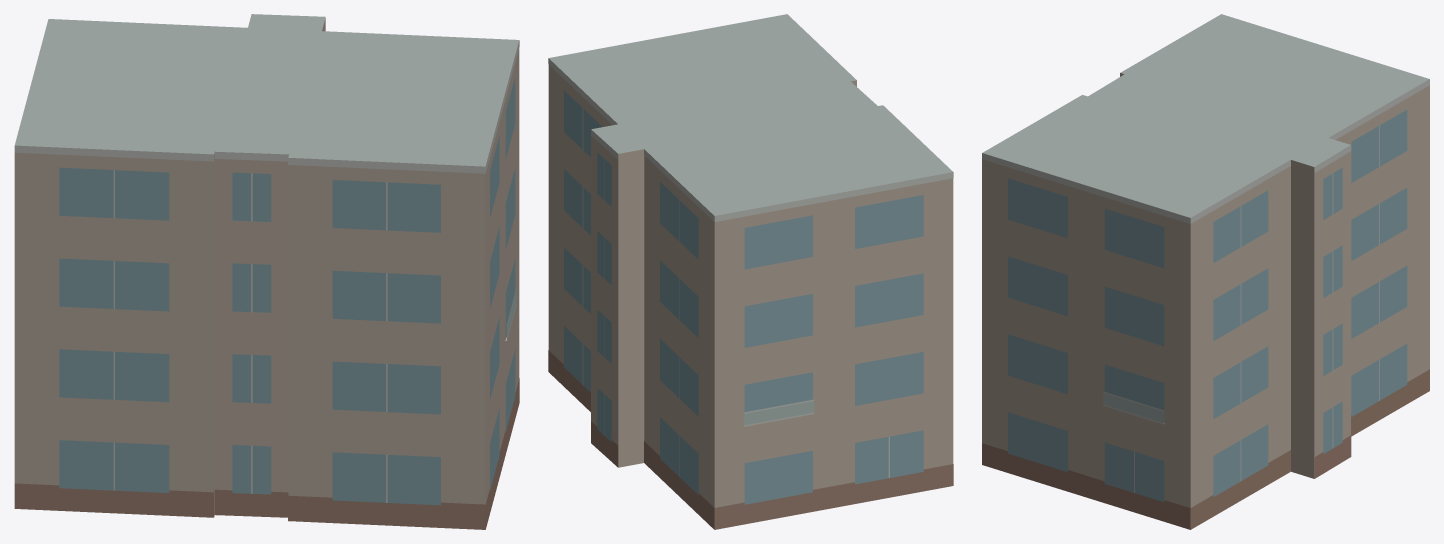
The model's file is survey-upis-32865965.glb.
3 renders of one model, left to right at view 1: azimuth 30°, elevation 25°; view 2: azimuth 150°, elevation 25°; view 3: azimuth 270°, elevation 25°, orthographic. The views are drawn at different scales.
Visible parts, largest first — view 1: survey-upis-32865965.tmp; view 2: survey-upis-32865965.tmp; view 3: survey-upis-32865965.tmp.
Part boxes in pixels (<box>): survey-upis-32865965.tmp: <box>14,14,519,529</box>; survey-upis-32865965.tmp: <box>548,14,953,529</box>; survey-upis-32865965.tmp: <box>982,14,1429,529</box>.
Bounding box in the file's own units: 17.49 × 12.47 × 16.23.
